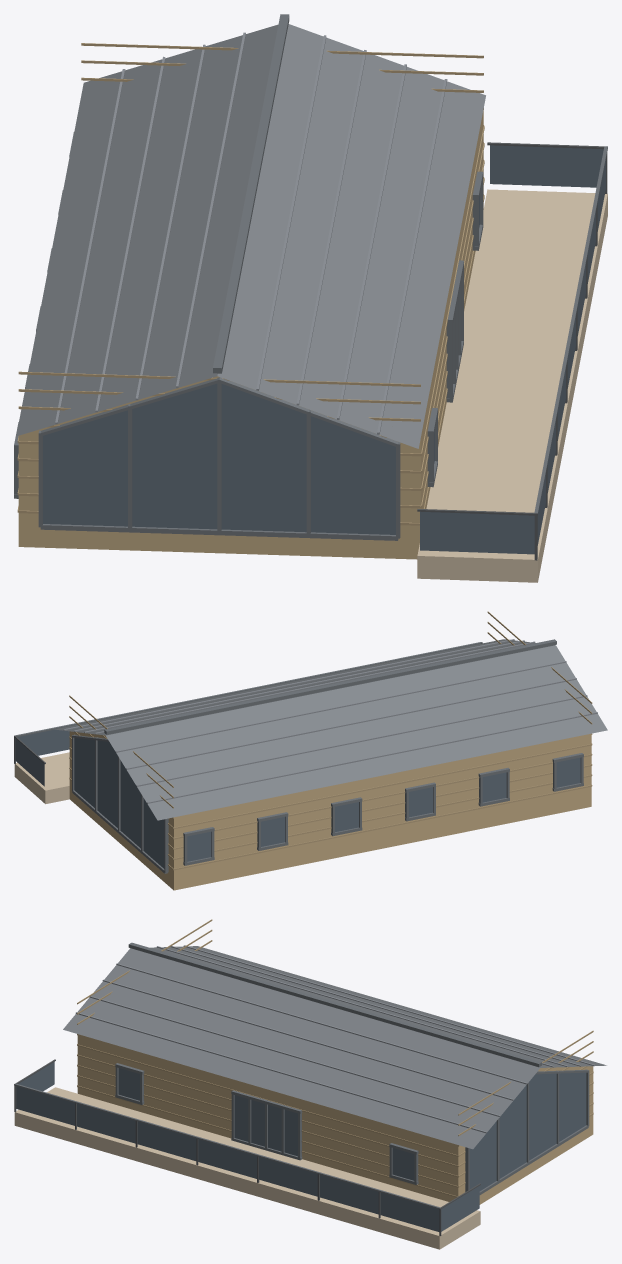
3 renders of one model, top to bottom at view 1: azimuth 30°, elevation 25°; view 2: azimuth 150°, elevation 25°; view 3: azimuth 270°, elevation 25°, orthographic. The views are drawn at different scales.
Visible parts, largest first — view 1: slate, larch, window_glass_016, slate_dk, door_wood, slate_lt, door_wood_p, window_glass_008, window_glass_009, pipe; view 2: slate, door_wood, slate_dk, slate_lt, window_glass_017, door_wood_p, larch, window_glass_007, window_glass_009, window_glass_023, window_glass_018, window_glass_019 (+3 smaller); view 3: slate, door_wood, larch, slate_dk, window_glass_017, slate_lt, door_wood_p, window_glass_003, window_glass_007, window_glass_006, window_glass_001, window_glass_002 (+11 smaller).
Boxes of the visible parts, left/top/right/bottom form: slate: left=16, top=24, right=485, bottom=448; larch: left=417, top=189, right=607, bottom=582; window_glass_016: left=43, top=383, right=395, bottom=534; slate_dk: left=14, top=14, right=607, bottom=540; door_wood: left=18, top=110, right=483, bottom=559; slate_lt: left=55, top=32, right=447, bottom=434; door_wood_p: left=17, top=43, right=484, bottom=525; window_glass_008: left=420, top=511, right=534, bottom=554; window_glass_009: left=490, top=145, right=603, bottom=187; pipe: left=417, top=142, right=607, bottom=560; slate: left=54, top=639, right=607, bottom=820; door_wood: left=69, top=731, right=591, bottom=890; slate_dk: left=15, top=639, right=583, bottom=873; slate_lt: left=63, top=639, right=597, bottom=803; window_glass_017: left=74, top=738, right=164, bottom=868; door_wood_p: left=69, top=611, right=592, bottom=870; larch: left=14, top=752, right=69, bottom=804; window_glass_007: left=17, top=729, right=69, bottom=755; window_glass_009: left=15, top=738, right=44, bottom=786; window_glass_023: left=556, top=757, right=580, bottom=787; window_glass_018: left=187, top=831, right=211, bottom=861; window_glass_019: left=261, top=817, right=285, bottom=846; slate: left=63, top=946, right=606, bottom=1149; door_wood: left=77, top=1034, right=593, bottom=1204; larch: left=14, top=1087, right=480, bottom=1249; slate_dk: left=14, top=942, right=589, bottom=1209; window_glass_017: left=469, top=1072, right=586, bottom=1190; slate_lt: left=75, top=945, right=594, bottom=1133; door_wood_p: left=77, top=919, right=593, bottom=1197; window_glass_003: left=137, top=1121, right=196, bottom=1160; window_glass_007: left=380, top=1192, right=439, bottom=1231; window_glass_006: left=320, top=1174, right=378, bottom=1214; window_glass_001: left=16, top=1086, right=74, bottom=1125; window_glass_002: left=77, top=1104, right=135, bottom=1143.
Size of the model in its own units: 18.26 by 4.34 by 19.86.
